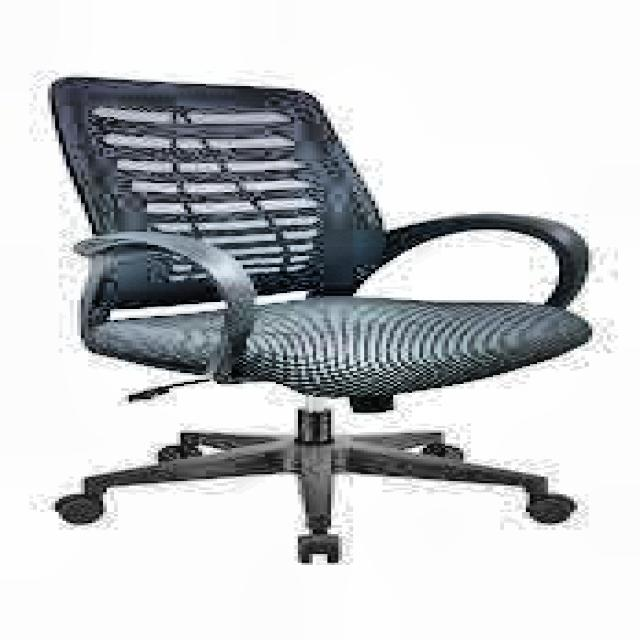cadeira: (35, 66, 598, 568)
